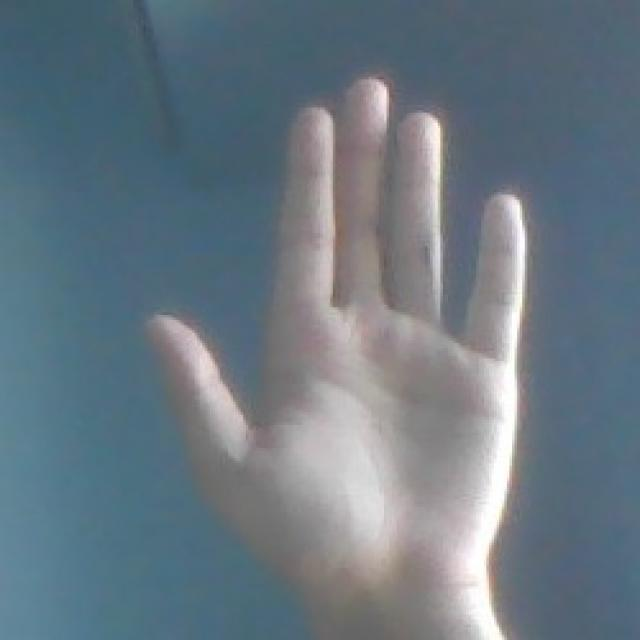Numeric-5: (150, 69, 531, 622)
